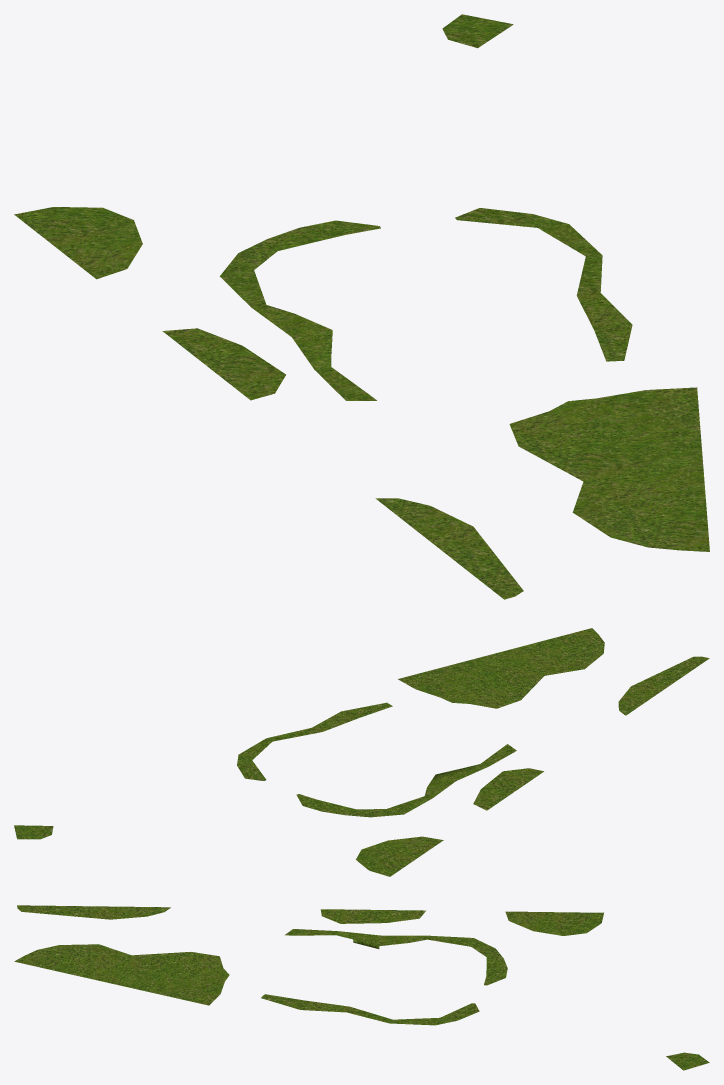
Rendered from zonadinosaurios pastofbx.fbx.
The picture shows the model from 3 angles, top to bottom: view 1: azimuth 30°, elevation 25°; view 2: azimuth 150°, elevation 25°; view 3: azimuth 270°, elevation 25°; orthographic projection. The views are drawn at different scales.
Visible parts, largest first — view 1: Plane.006; view 2: Plane.006; view 3: Plane.006.
Part boxes in pixels (box(x1,y1,x2,y2)): Plane.006: box(14, 14, 709, 599); Plane.006: box(14, 628, 709, 876); Plane.006: box(14, 905, 709, 1070).
Size of the model in its own units: 6061 by 54.14 by 10783.
Materials: 1 (1 with a texture image).
